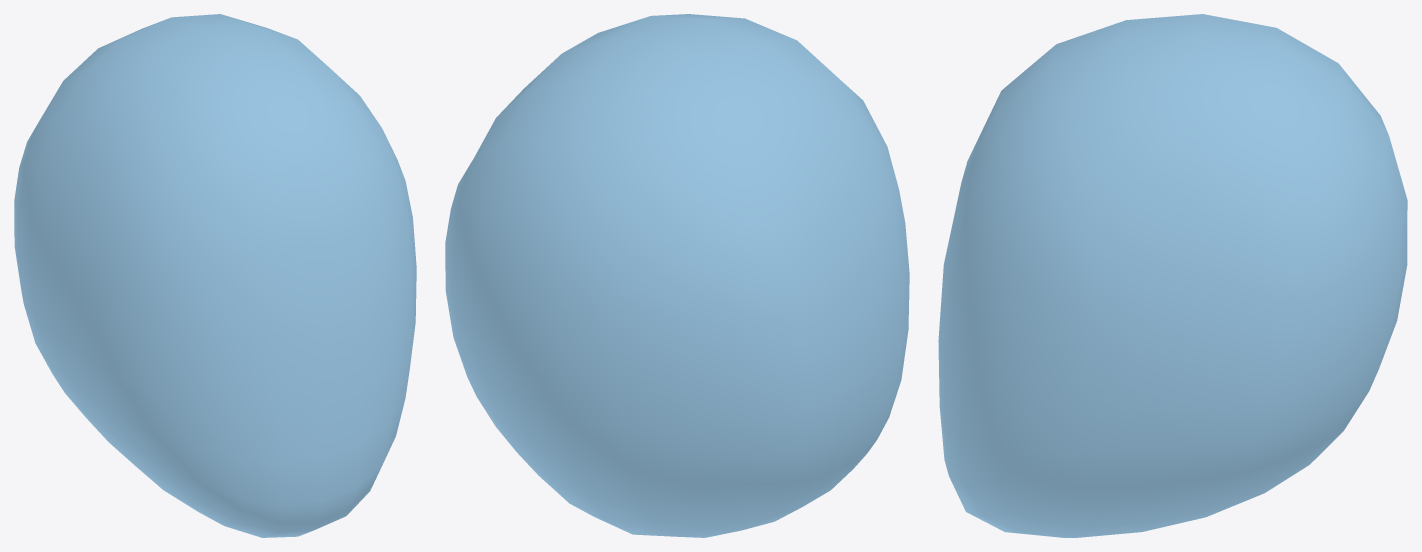
Rendered from head_narrow_01.glb.
3 renders of one model, left to right at view 1: azimuth 30°, elevation 25°; view 2: azimuth 150°, elevation 25°; view 3: azimuth 270°, elevation 25°, orthographic. The views are drawn at different scales.
Parts seen in each view (by area): view 1: head_narrow_01.002; view 2: head_narrow_01.002; view 3: head_narrow_01.002.
Part boxes in pixels (x1,y1,x2,y2): head_narrow_01.002: (14,14,416,537); head_narrow_01.002: (445,14,909,537); head_narrow_01.002: (938,14,1407,537).
Size of the model in its own units: 1.23 by 1.62 by 1.39.
